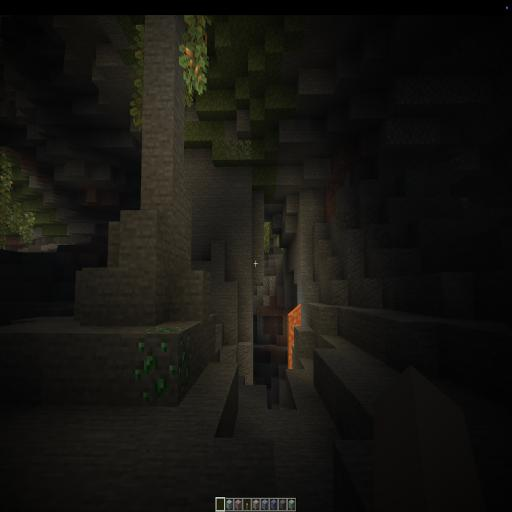emerald ore: (130, 312, 203, 407)
